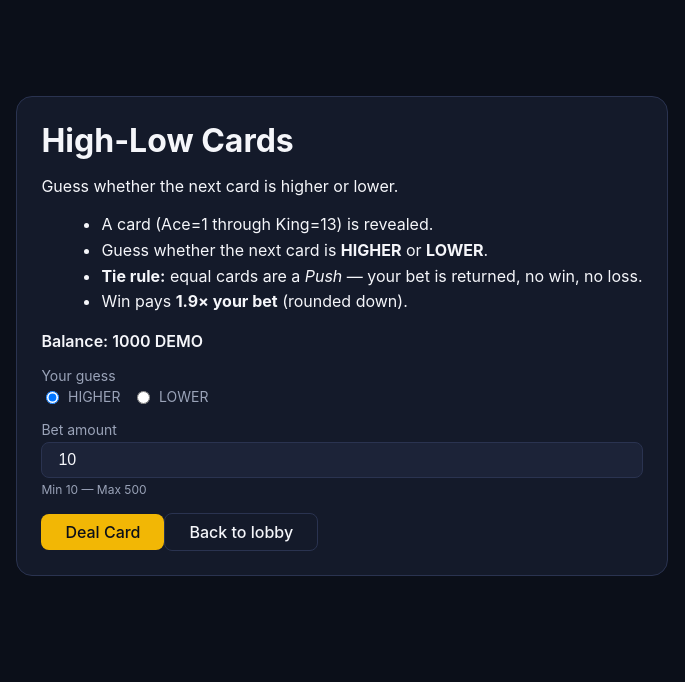
HighLow › shows a loss message when the guess is wrong
Check: the heading "High-Low Cards" is shown, box [41,121,294,160]
Click the button "Deal Card" at (103, 532), box [41,514,164,550]
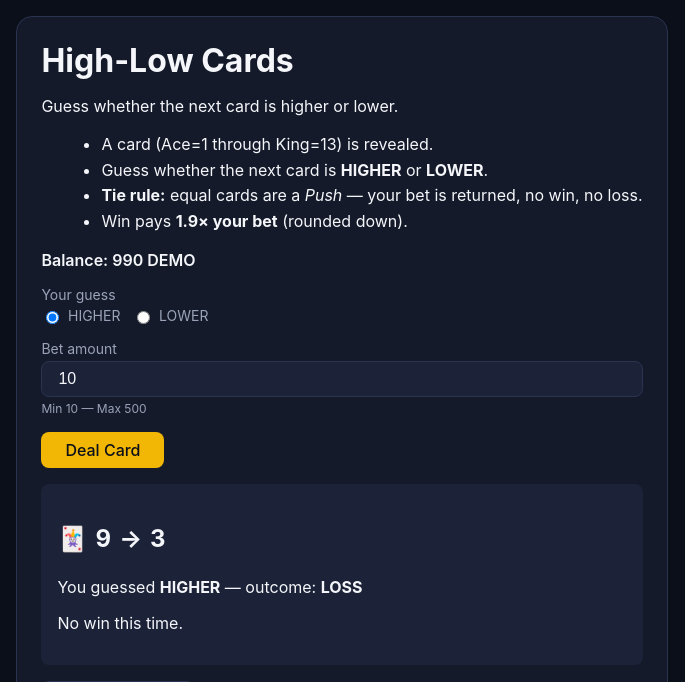
Check: the text "No win this time." is shown, box [57,613,183,633]
Check: the text "Balance: 990 DEMO" is shown, box [41,250,196,270]
